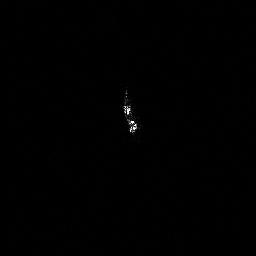ship: (120, 100, 141, 134)
